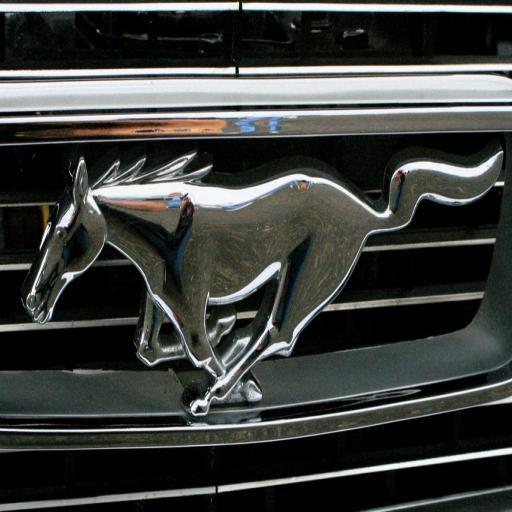horse: (20, 145, 506, 417)
